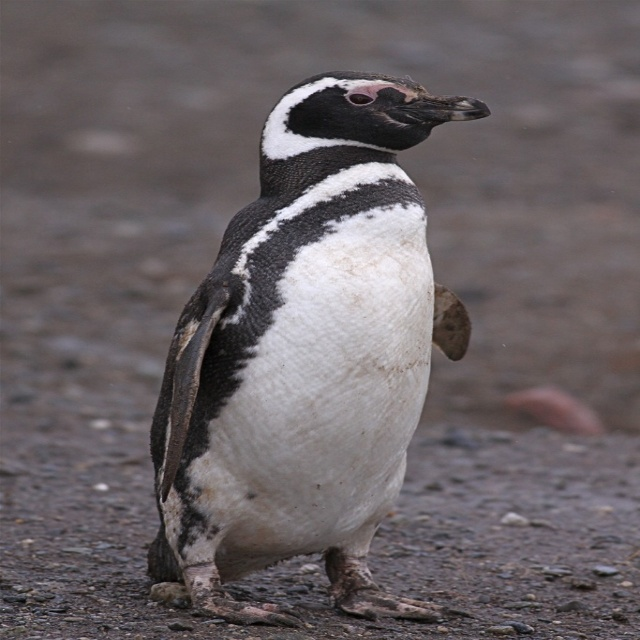Penguin: (138, 71, 495, 630)
